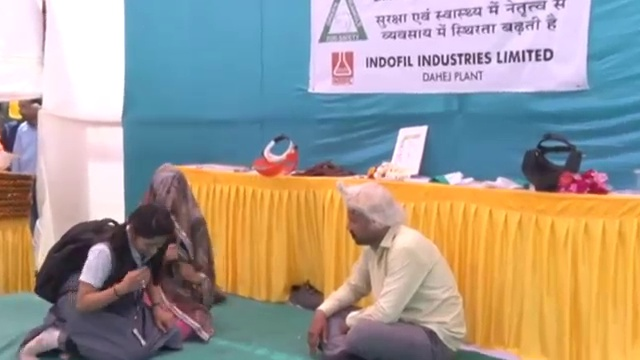helmet: (0, 151, 21, 174)
helmet_off: (335, 188, 404, 258), (143, 168, 192, 231), (121, 205, 177, 251), (18, 94, 42, 123)
person: (300, 187, 472, 360), (15, 203, 178, 360), (142, 169, 222, 343), (8, 92, 49, 175)
